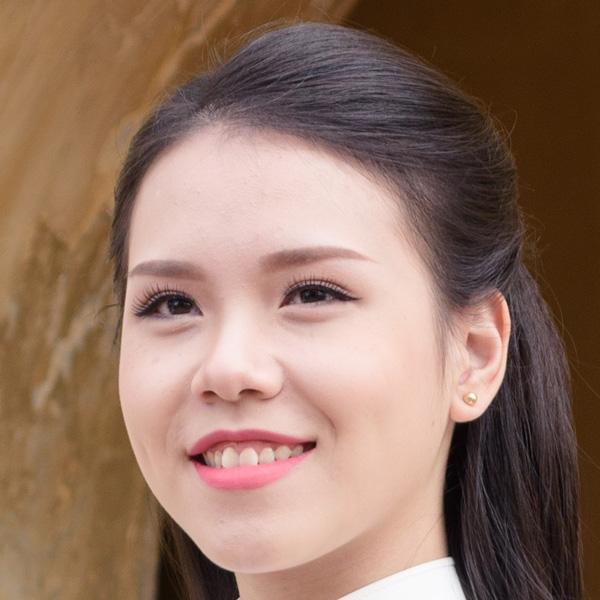Eyes: (272, 269, 362, 324), (129, 284, 213, 331)
